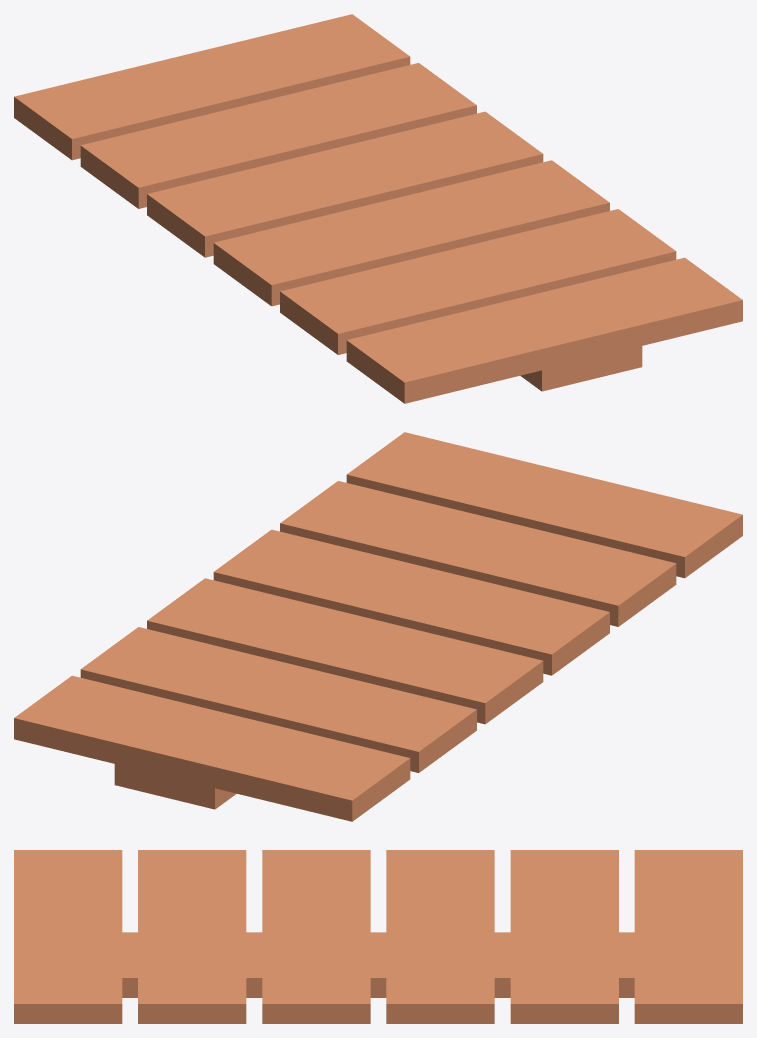
The model's file is planksHalf.obj.
The picture shows the model from 3 angles, top to bottom: view 1: azimuth 30°, elevation 25°; view 2: azimuth 150°, elevation 25°; view 3: azimuth 270°, elevation 25°; orthographic projection. The views are drawn at different scales.
Parts seen in each view (by area): view 1: planks; view 2: planks; view 3: planks.
Part boxes in pixels (x1=…): planks: x1=14, y1=14, x2=742, y2=403; planks: x1=14, y1=432, x2=742, y2=821; planks: x1=14, y1=850, x2=742, y2=1023.
Size of the model in its own units: 0.5 by 0.06 by 1.
